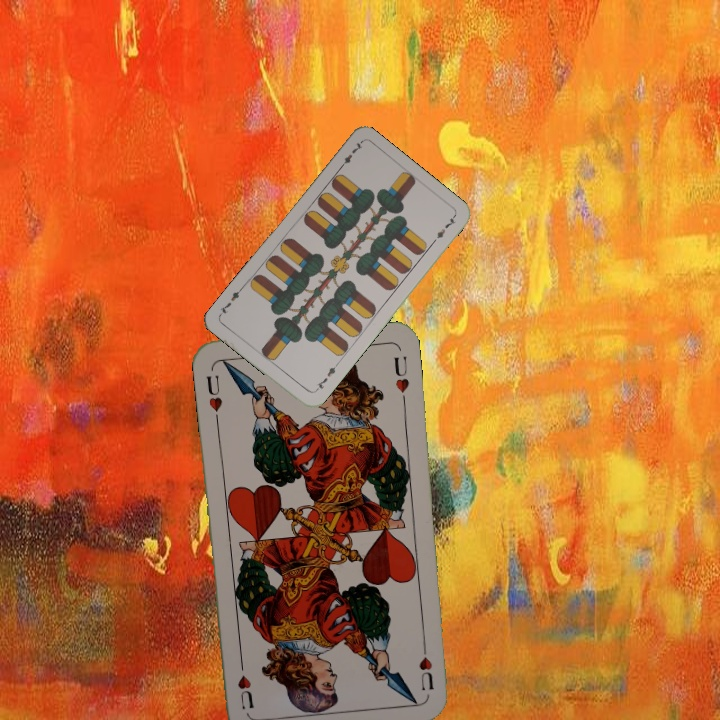E7: (335, 138, 366, 173), (310, 360, 340, 395)
HU: (415, 635, 436, 694), (202, 371, 225, 423)
